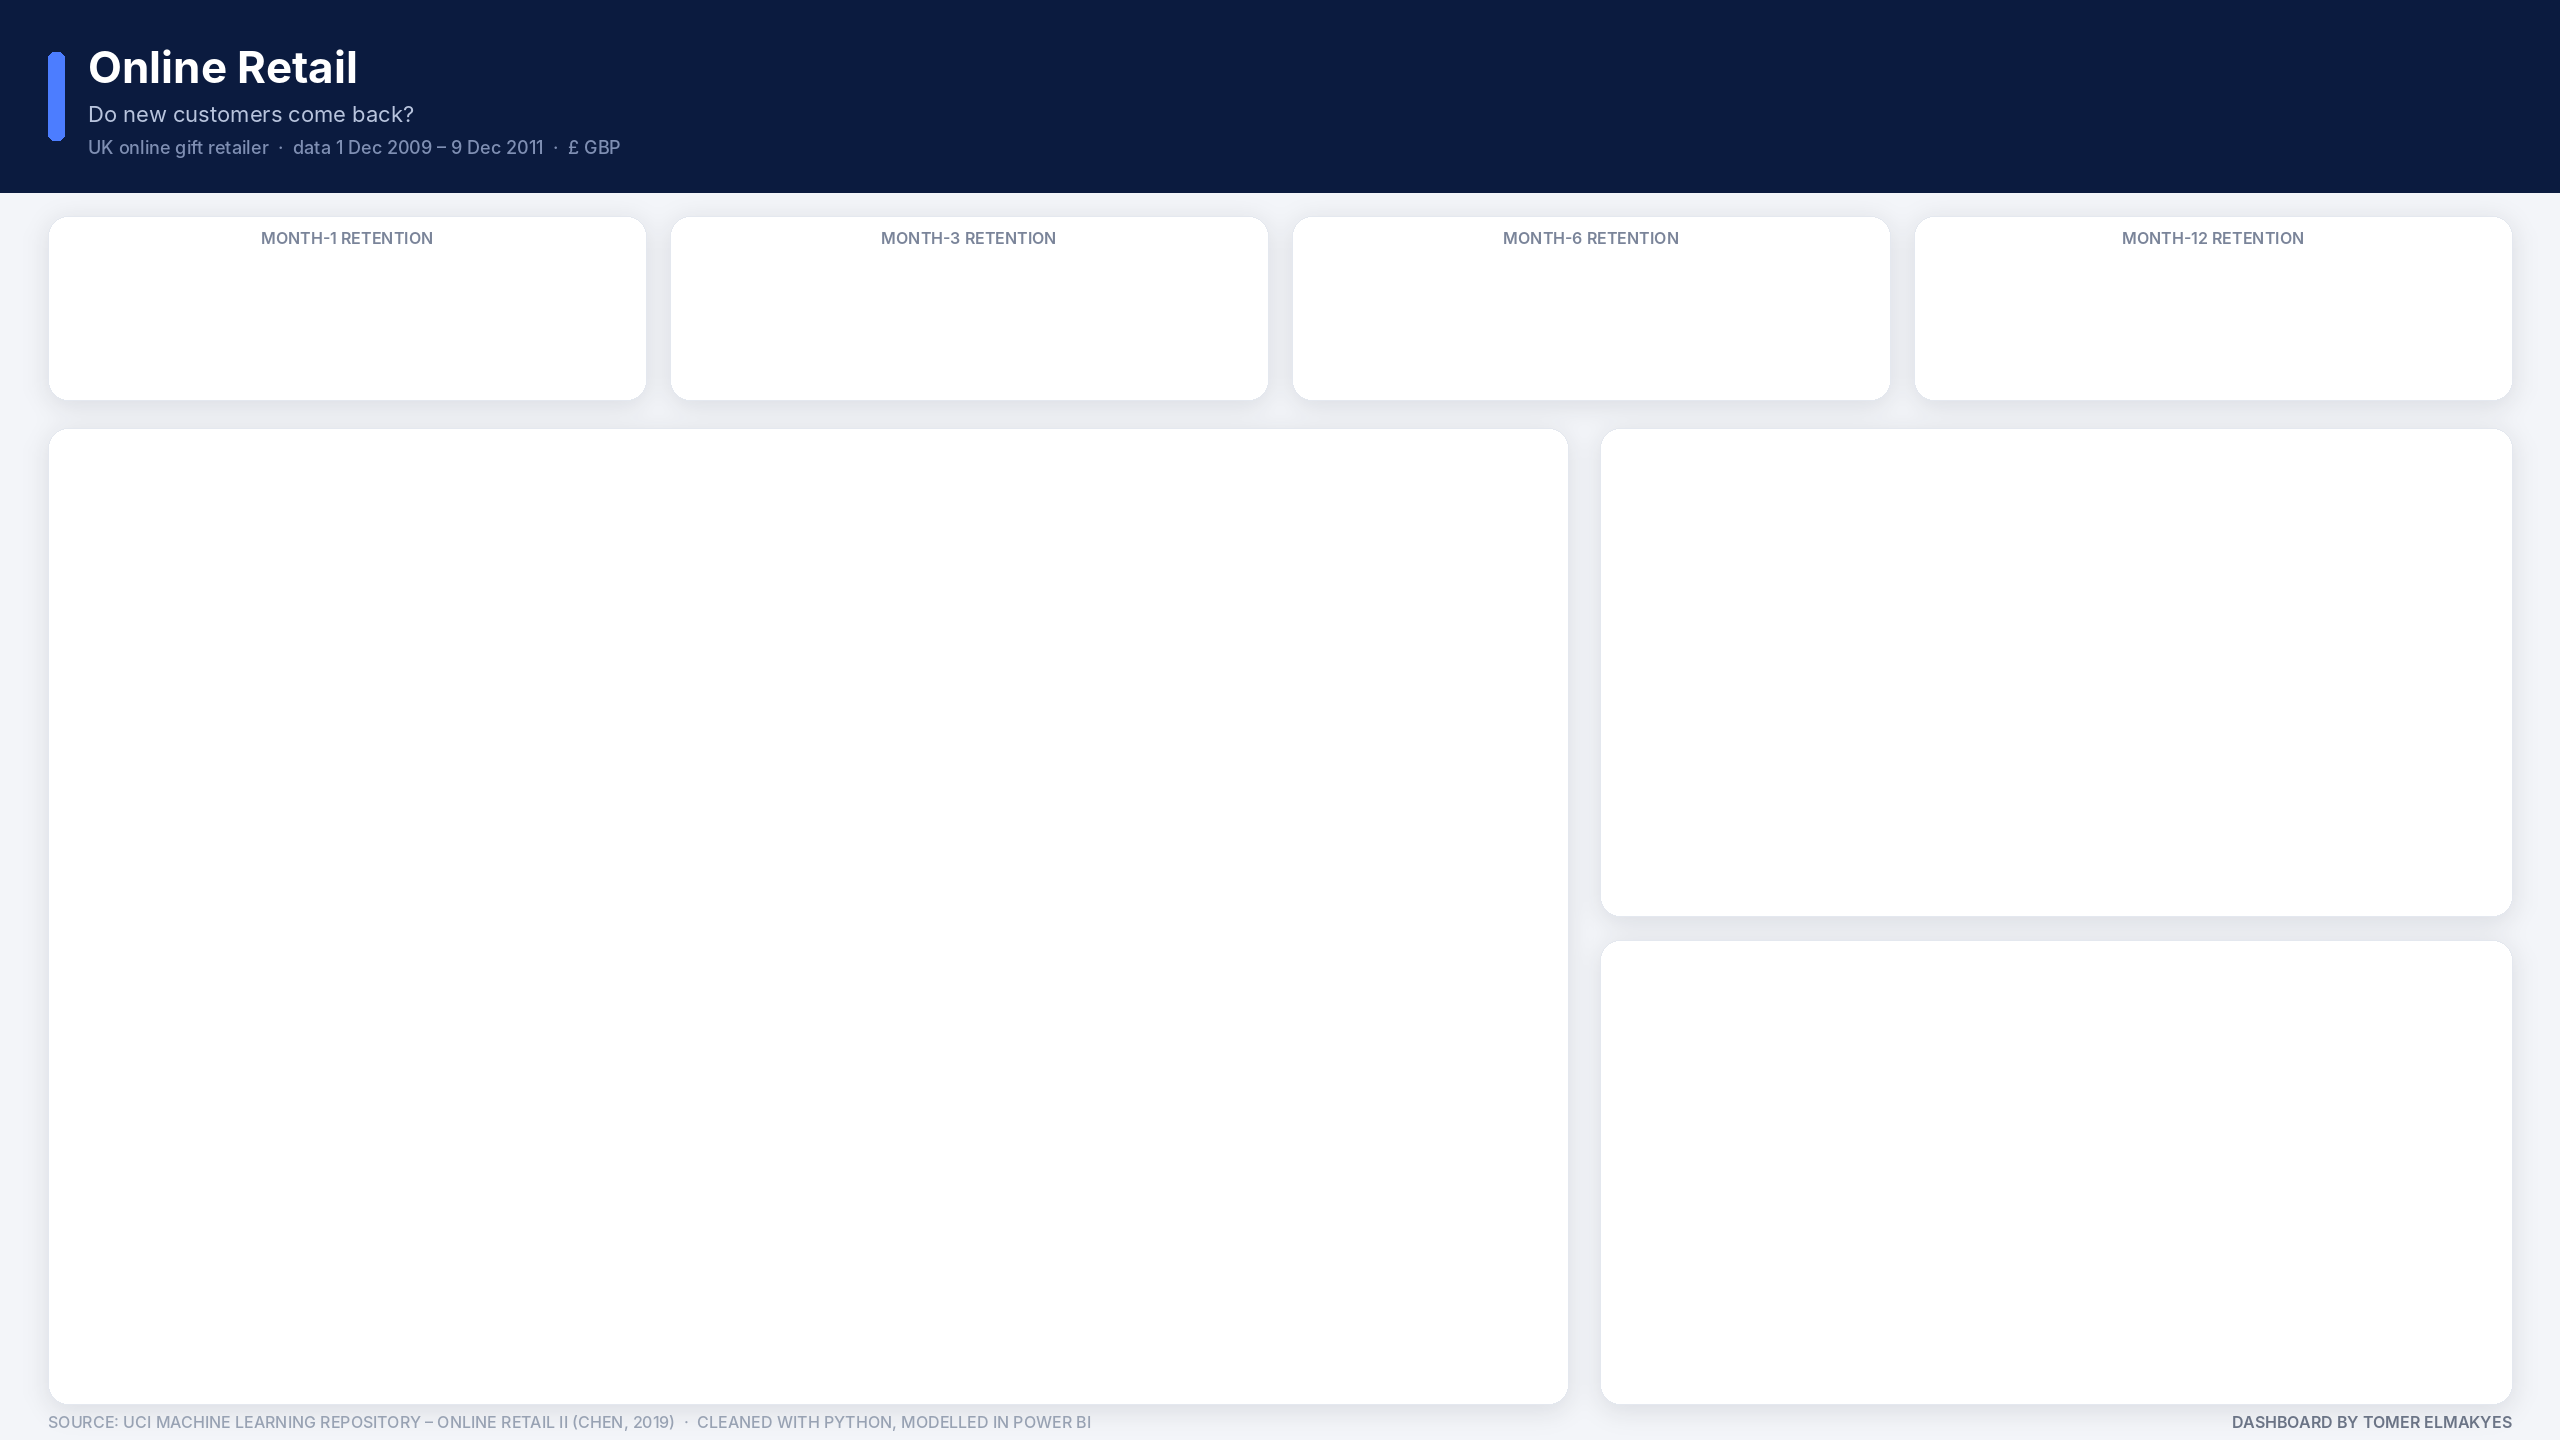

This screenshot's page, from the dashboard's own definition file:
{"tool":"powerbi","page":{"name":"Retention","canvas":[1280,720],"ordinal":2},"visuals":[{"type":"actionButton","box":[350,34,88,30],"z":3600},{"type":"actionButton","box":[444,34,94,30],"z":3700},{"type":"actionButton","box":[544,34,88,30],"z":3800},{"type":"actionButton","box":[638,34,82,30],"z":3900},{"type":"actionButton","box":[726,34,108,30],"z":4000},{"type":"slicer","fields":{"Values":["Customer.Market"]},"box":[1056,22,200,62],"z":4100},{"type":"card","fields":{"Values":["_Measures.Month-1 Retention"]},"box":[24,132,299,52],"z":4200},{"type":"card","fields":{"Values":["_Measures.Month-3 Retention"]},"box":[335,132,299,52],"z":4300},{"type":"card","fields":{"Values":["_Measures.Month-6 Retention"]},"box":[646,132,299,52],"z":4400},{"type":"card","fields":{"Values":["_Measures.Month-12 Retention"]},"box":[957,132,299,52],"z":4500},{"type":"pivotTable","title":"Cohort retention  ·  % of each monthly cohort that ordered again","fields":{"Rows":["Customer.Cohort"],"Columns":["Month Index.MonthLabel"],"Values":["_Measures.Retention %"]},"box":[24,214,760,488],"z":4600},{"type":"lineChart","title":"Average retention curve","fields":{"Category":["Month Index.MonthLabel"],"Y":["_Measures.Avg Retention %"]},"box":[800,214,456,244],"z":4700},{"type":"columnChart","title":"Active customers per month  ·  returning vs new","fields":{"Category":["Calendar.MonthStart"],"Y":["_Measures.Returning buyers","_Measures.New buyers"]},"box":[800,470,456,232],"z":4800}]}

Visuals, with their boxes in screenshot pixels (x1, y1, x2, y2), scaled from the page's 1280x720 canvas onto the 2560x1440 screenshot:
actionButton: 700,68,876,128
actionButton: 888,68,1076,128
actionButton: 1088,68,1264,128
actionButton: 1276,68,1440,128
actionButton: 1452,68,1668,128
slicer - Customer.Market: 2112,44,2512,168
card - _Measures.Month-1 Retention: 48,264,646,368
card - _Measures.Month-3 Retention: 670,264,1268,368
card - _Measures.Month-6 Retention: 1292,264,1890,368
card - _Measures.Month-12 Retention: 1914,264,2512,368
"Cohort retention  ·  % of each monthly cohort that ordered again" pivotTable: 48,428,1568,1404
"Average retention curve" lineChart: 1600,428,2512,916
"Active customers per month  ·  returning vs new" columnChart: 1600,940,2512,1404
